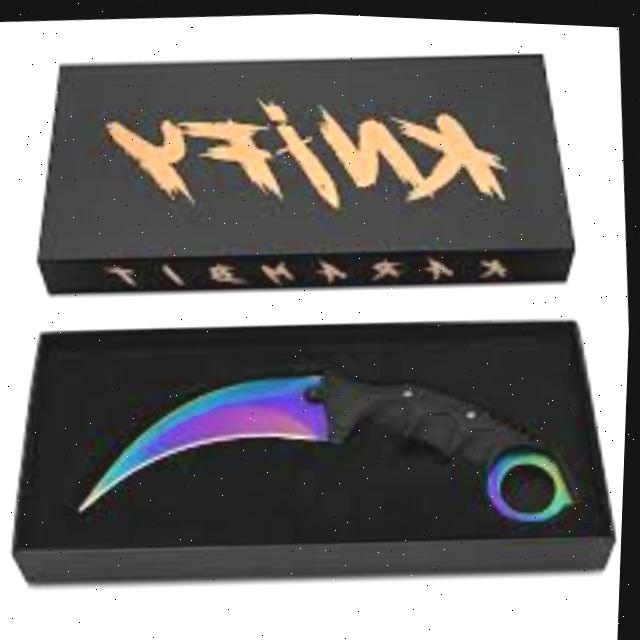knife: (70, 340, 589, 549)
